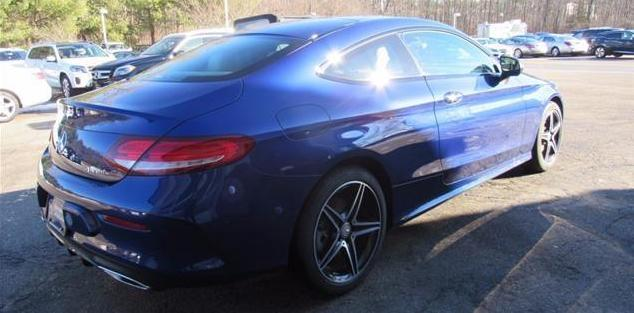C300Coupe: (23, 9, 578, 299)
